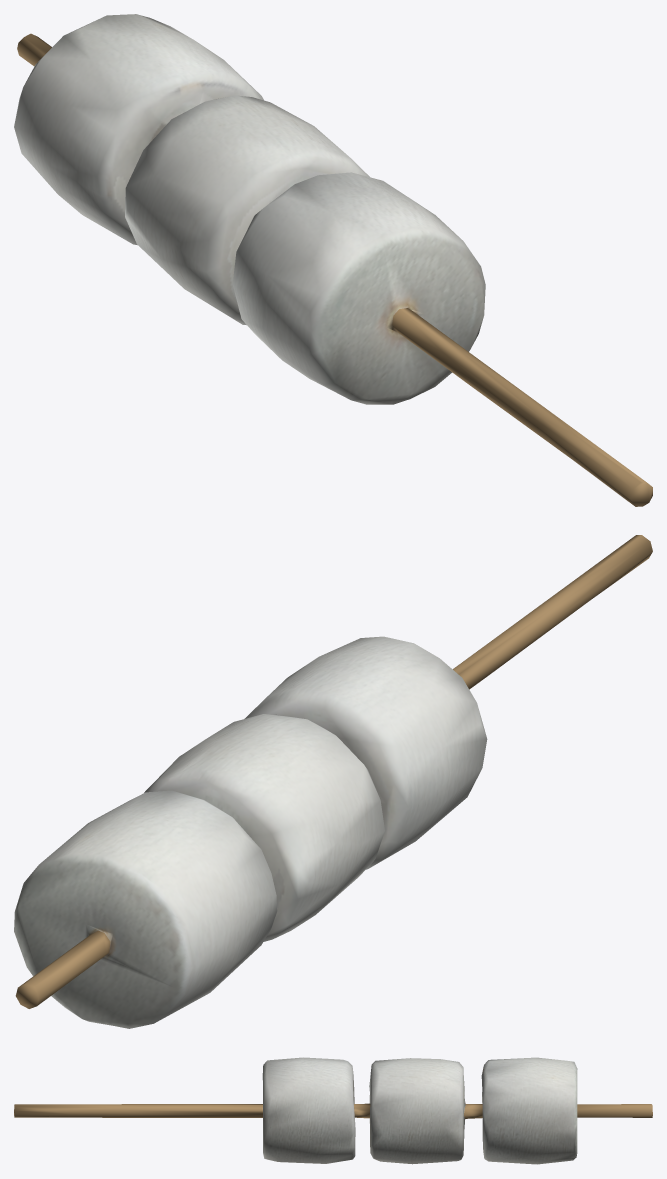
File: Food_Marshmallow.fbx
3 views of the same model, one above another, from view 1: azimuth 30°, elevation 25°; view 2: azimuth 150°, elevation 25°; view 3: azimuth 270°, elevation 25° (orthographic). The views are drawn at different scales.
Parts seen in each view (by area): view 1: Food_Marshmallow; view 2: Food_Marshmallow; view 3: Food_Marshmallow.
Boxes of the visible parts, bbox=[...] form: Food_Marshmallow: bbox=[14, 14, 652, 506]; Food_Marshmallow: bbox=[14, 535, 652, 1028]; Food_Marshmallow: bbox=[14, 1057, 652, 1164].
Size of the model in its own units: 0.0454 by 0.0432 by 0.26.
Materials: 1 (1 with a texture image).
